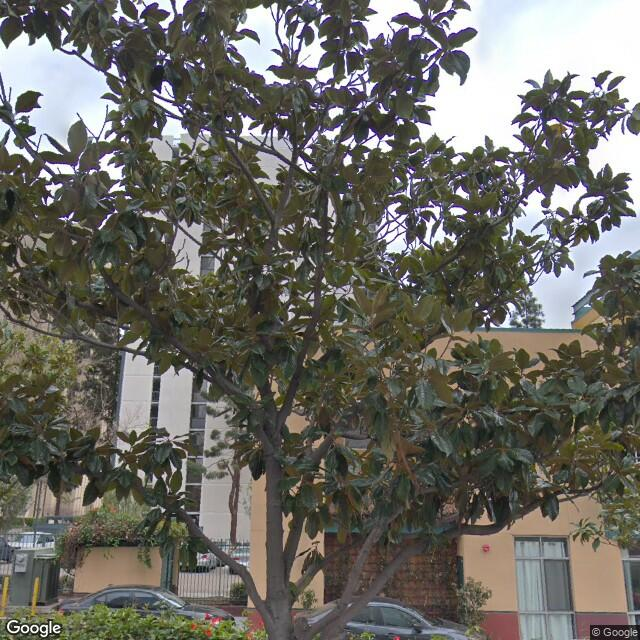window: (510, 528, 573, 614)
